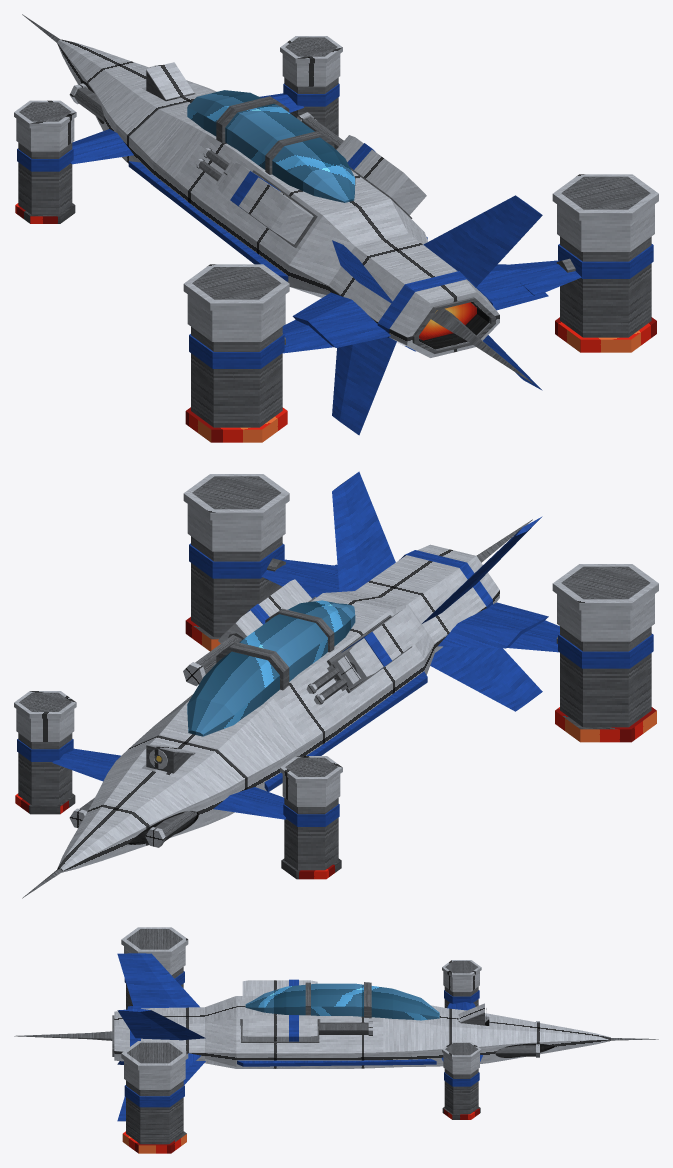
The model's file is needletail.glb.
3 renders of one model, top to bottom at view 1: azimuth 30°, elevation 25°; view 2: azimuth 150°, elevation 25°; view 3: azimuth 270°, elevation 25°, orthographic. The views are drawn at different scales.
Visible parts, largest first — view 1: fuselage, canopy, booster.001, booster.003, tail_fin.003, tail_fin, booster_cowl.001, pod, booster_cowl.003, tailplane, booster, pod.001 (+31 smaller); view 2: fuselage, canopy, booster.001, tail_fin.003, booster.003, tail_fin, booster_cowl.003, booster_cowl.001, tailplane, booster, booster.002, pod (+27 smaller); view 3: fuselage, canopy, tail_fin.001, booster.003, pod.001, tail_fin.003, wing.001, booster_cowl.003, booster.002, intake.003, intake.001, intake_lip.003 (+11 smaller).
Boxes of the visible parts, x1,y1,x2,y2 form: fuselage: [57, 39, 499, 357]; canopy: [187, 90, 355, 202]; booster.001: [191, 326, 282, 427]; booster.003: [560, 236, 651, 337]; tail_fin.003: [423, 195, 542, 287]; tail_fin: [332, 337, 396, 435]; booster_cowl.001: [187, 294, 285, 341]; pod: [218, 163, 313, 244]; booster_cowl.003: [557, 204, 654, 251]; tailplane: [292, 292, 390, 347]; booster: [18, 142, 72, 214]; pod.001: [336, 135, 426, 215]; fuselage: [57, 544, 499, 872]; canopy: [187, 600, 355, 736]; booster.001: [560, 626, 651, 727]; tail_fin.003: [332, 471, 395, 591]; booster.003: [191, 536, 282, 637]; tail_fin: [430, 646, 542, 711]; booster_cowl.003: [187, 504, 285, 551]; booster_cowl.001: [557, 594, 654, 641]; tailplane: [438, 602, 548, 648]; booster: [284, 798, 338, 870]; booster.002: [18, 733, 72, 805]; pod: [331, 607, 426, 688]; fuselage: [114, 996, 610, 1068]; canopy: [245, 983, 439, 1020]; tail_fin.001: [117, 953, 199, 1008]; booster.003: [126, 1080, 183, 1144]; pod.001: [242, 1015, 317, 1041]; tail_fin.003: [117, 1008, 205, 1040]; wing.001: [237, 1059, 436, 1066]; booster_cowl.003: [124, 1060, 185, 1089]; booster.002: [444, 1068, 478, 1114]; intake.003: [127, 1042, 182, 1063]; intake.001: [127, 929, 182, 949]; intake_lip.003: [121, 1041, 188, 1070].
Size of the model in its own units: 52.28 by 19.91 by 103.
Materials: 10 (10 with a texture image).
